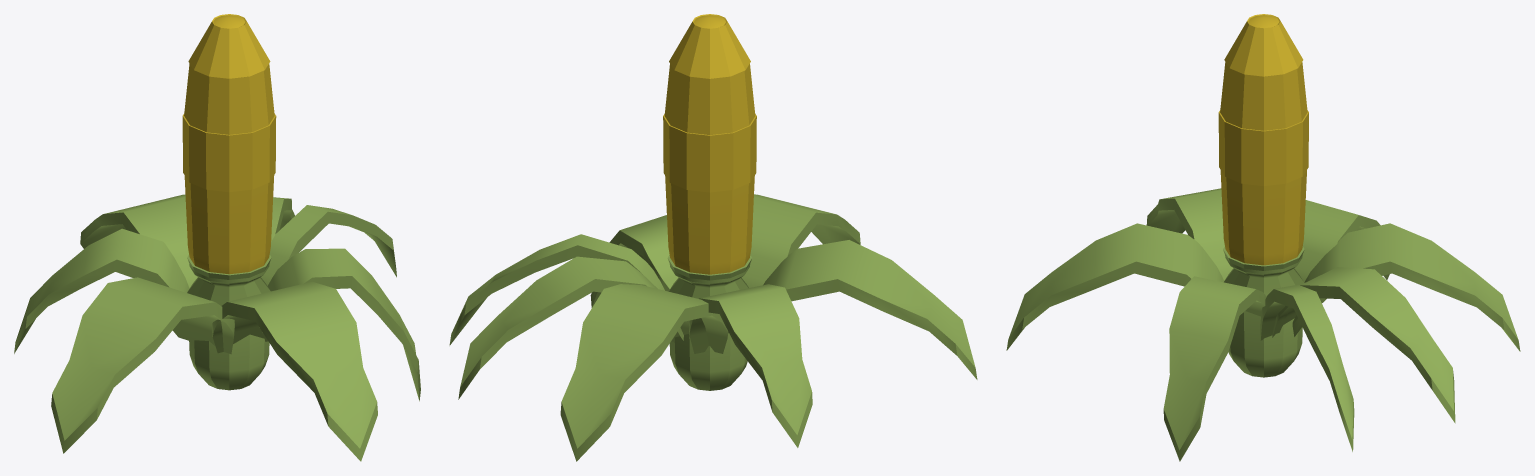
Rendered from glass1.fbx.
The picture shows the model from 3 angles, left to right: view 1: azimuth 30°, elevation 25°; view 2: azimuth 150°, elevation 25°; view 3: azimuth 270°, elevation 25°; orthographic projection. The views are drawn at different scales.
Visible parts, largest first — view 1: group5_pasted__polySurface2_pasted__polySurface8; view 2: group5_pasted__polySurface2_pasted__polySurface8; view 3: group5_pasted__polySurface2_pasted__polySurface8.
Part boxes in pixels (x1,y1,x2,y2): group5_pasted__polySurface2_pasted__polySurface8: (14,14,420,461); group5_pasted__polySurface2_pasted__polySurface8: (449,14,977,461); group5_pasted__polySurface2_pasted__polySurface8: (1006,14,1520,461).
Bounding box in the file's own units: 10.81 × 9.32 × 11.57.
